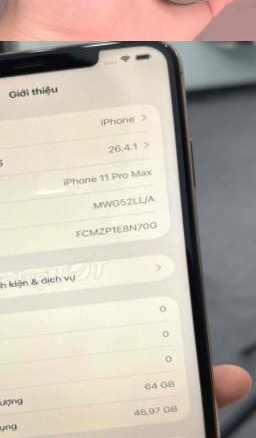scratch: (81, 41, 178, 57)
